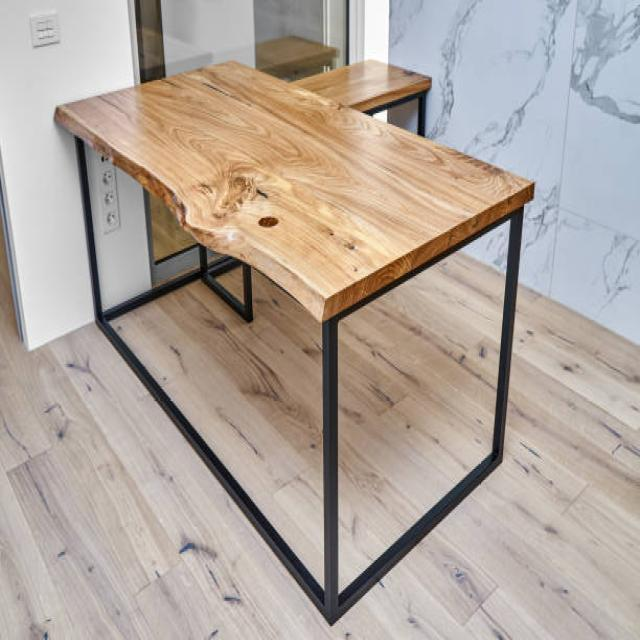table: (53, 56, 534, 624)
